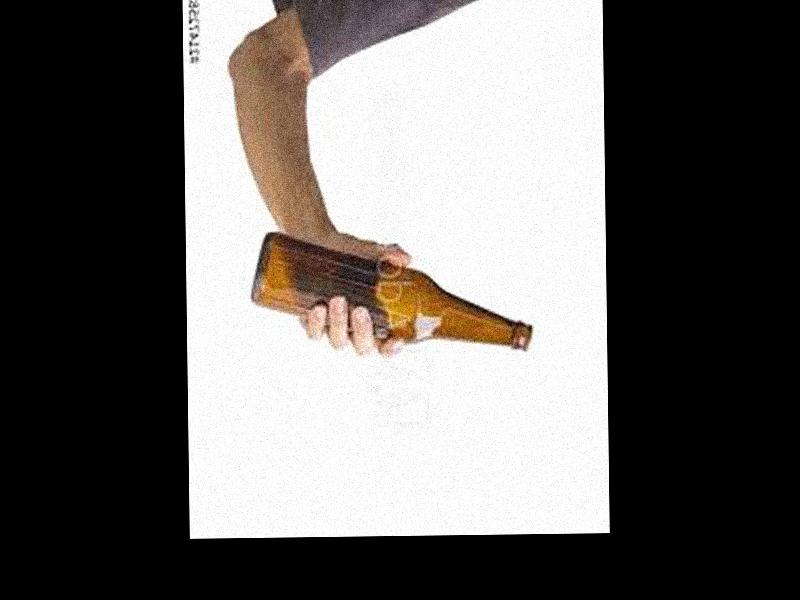Beer: (250, 228, 533, 356)
